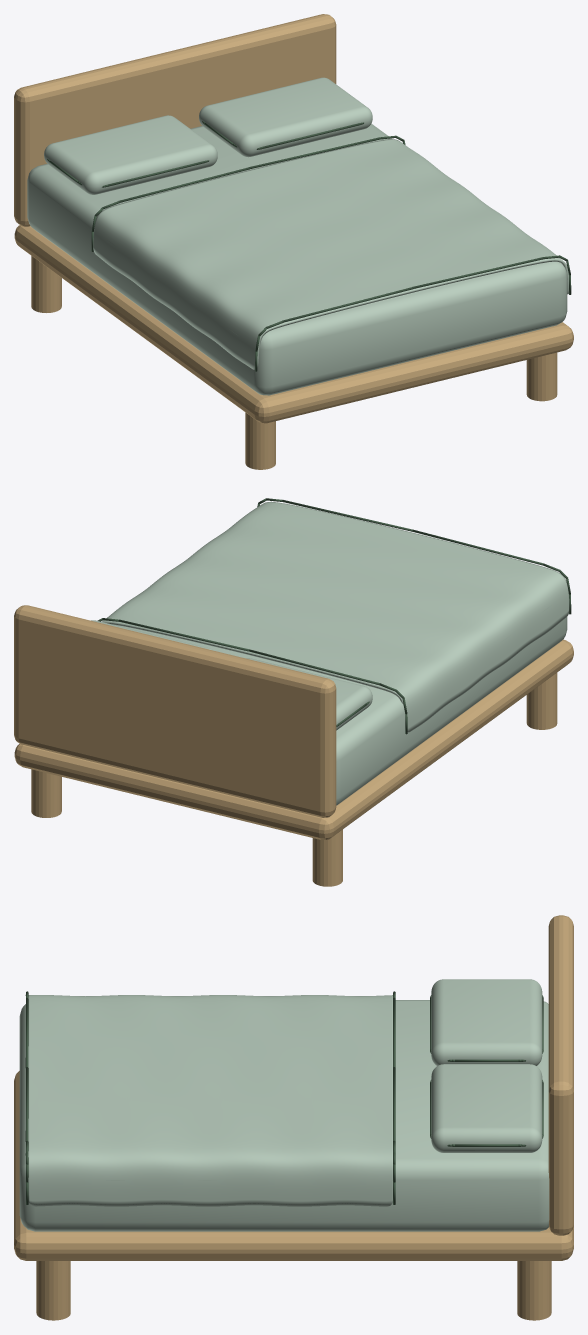
Rendered from kirribilli.glb.
The picture shows the model from 3 angles, top to bottom: view 1: azimuth 30°, elevation 25°; view 2: azimuth 150°, elevation 25°; view 3: azimuth 270°, elevation 25°; orthographic projection. The views are drawn at different scales.
Visible parts, largest first — view 1: kirribilli; view 2: kirribilli; view 3: kirribilli.
Boxes of the visible parts, x1,y1,x2,y2 form: kirribilli: (14, 14, 573, 469); kirribilli: (14, 498, 573, 886); kirribilli: (14, 915, 573, 1320).
Bounding box in the file's own units: 1.56 × 0.9916 × 2.12.
